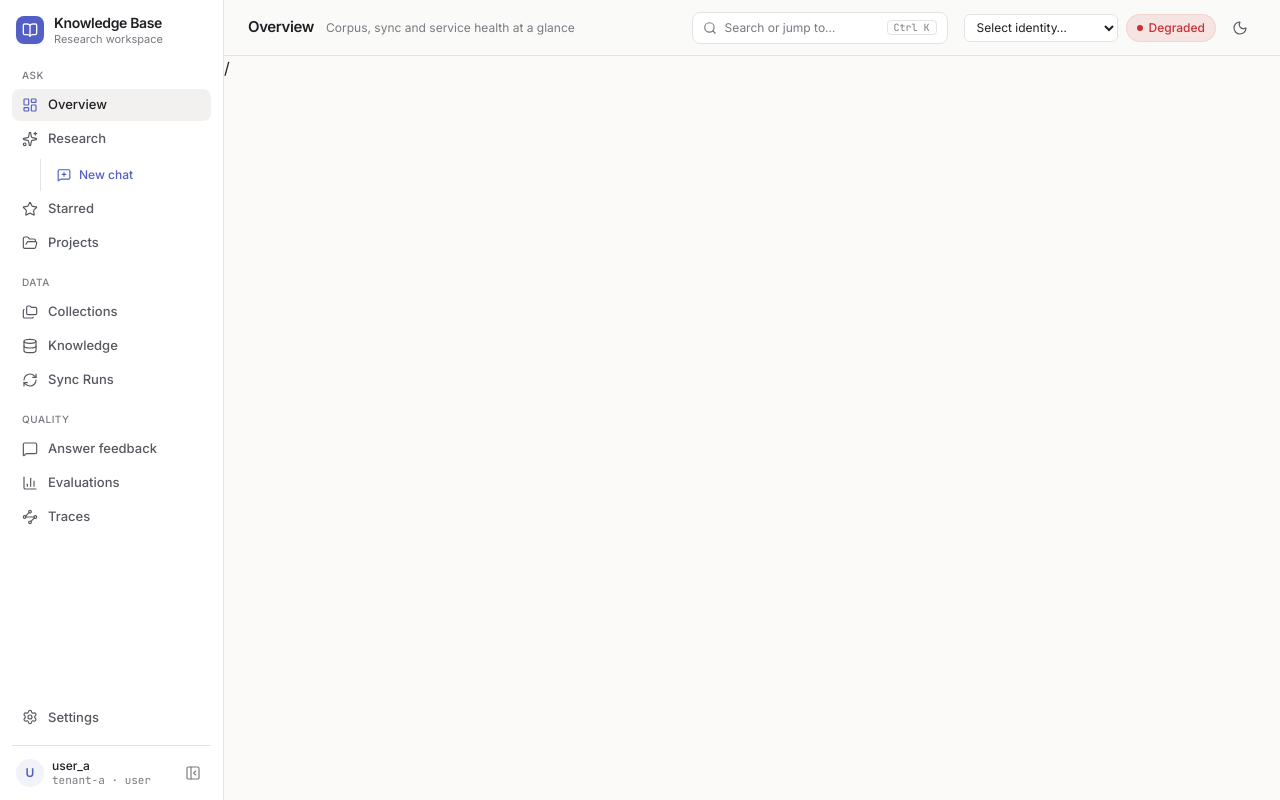
it: console shell › collapses the sidebar to icons and keeps links reachable by name
Click the button named "Collapse sidebar": (193,773) [179,759,207,787]
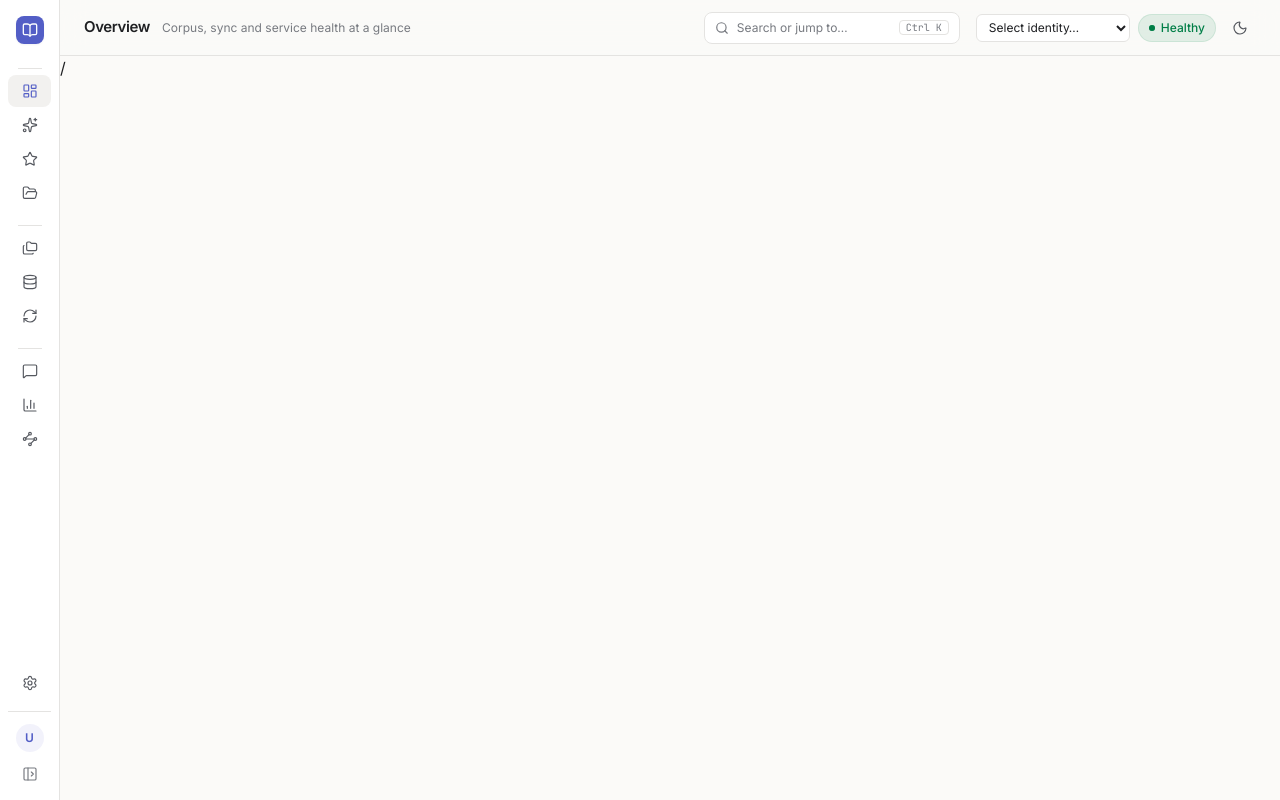
Expected: the link named "Research" is shown, [22,117,38,133]
Expected: the text "Ask" is gone
Expected: the button named "Expand sidebar" is shown, [16,760,44,788]
